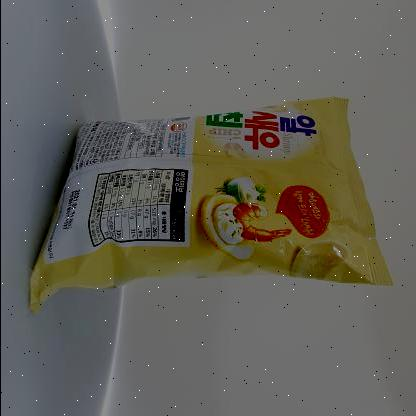Others: (24, 86, 400, 322)
